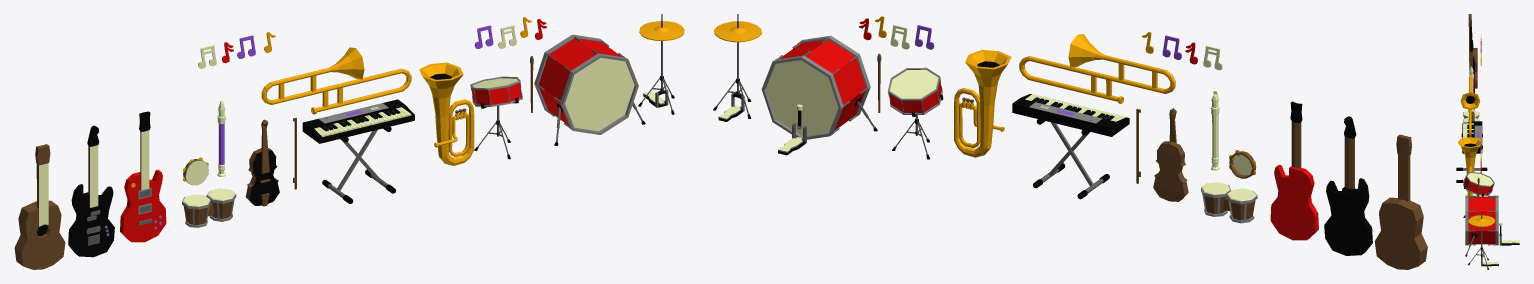
Rendered from MusicalInstruments.fbx.
3 views of the same model, side by side, from view 1: azimuth 30°, elevation 25°; view 2: azimuth 150°, elevation 25°; view 3: azimuth 270°, elevation 25° (orthographic). The views are drawn at different scales.
Visible parts, largest first — view 1: BassDrum, GuitarAcoustic, BassElectric, GuitarElectric, Tuba, Trombone, Piano, Violine, BongoDrums, SnareDrum, PianoStand, Notes (+5 smaller); view 2: BassDrum, GuitarAcoustic, BassElectric, GuitarElectric, Tuba, Trombone, SnareDrum, Piano, Violine, BongoDrums, PianoStand, Notes (+4 smaller); view 3: BassDrum, SnareDrum, Tuba, Trombone, GuitarAcoustic, Hihat, Piano, HihatStand, BongoDrums, GuitarElectric, PianoStand, Flute (+8 smaller).
Boxes of the visible parts, x1=… form: BassDrum: x1=534, y1=34, x2=645, y2=145; GuitarAcoustic: x1=14, y1=144, x2=65, y2=269; BassElectric: x1=68, y1=125, x2=114, y2=257; GuitarElectric: x1=120, y1=111, x2=166, y2=242; Tuba: x1=419, y1=62, x2=474, y2=165; Trombone: x1=261, y1=47, x2=411, y2=114; Piano: x1=302, y1=99, x2=414, y2=143; Violine: x1=245, y1=119, x2=279, y2=206; BongoDrums: x1=182, y1=188, x2=236, y2=227; SnareDrum: x1=470, y1=76, x2=522, y2=108; PianoStand: x1=322, y1=126, x2=395, y2=203; Notes: x1=474, y1=17, x2=546, y2=48; BassDrum: x1=761, y1=35, x2=877, y2=139; GuitarAcoustic: x1=1374, y1=134, x2=1427, y2=269; BassElectric: x1=1324, y1=116, x2=1372, y2=255; GuitarElectric: x1=1270, y1=101, x2=1318, y2=240; Tuba: x1=954, y1=49, x2=1011, y2=157; Trombone: x1=1019, y1=34, x2=1175, y2=103; SnareDrum: x1=887, y1=67, x2=943, y2=116; Piano: x1=1012, y1=94, x2=1129, y2=136; Violine: x1=1153, y1=108, x2=1188, y2=201; BongoDrums: x1=1201, y1=182, x2=1257, y2=223; PianoStand: x1=1033, y1=119, x2=1109, y2=199; Notes: x1=859, y1=16, x2=934, y2=49; BassDrum: x1=1465, y1=195, x2=1498, y2=256; SnareDrum: x1=1463, y1=172, x2=1494, y2=196; Tuba: x1=1458, y1=137, x2=1482, y2=195; Trombone: x1=1460, y1=75, x2=1480, y2=136; GuitarAcoustic: x1=1468, y1=14, x2=1477, y2=88; Hihat: x1=1468, y1=215, x2=1494, y2=226; Piano: x1=1462, y1=121, x2=1482, y2=153; HihatStand: x1=1468, y1=211, x2=1488, y2=269; BongoDrums: x1=1463, y1=110, x2=1479, y2=122; GuitarElectric: x1=1470, y1=39, x2=1474, y2=110; PianoStand: x1=1456, y1=133, x2=1487, y2=182; Flute: x1=1469, y1=66, x2=1473, y2=110.
Bounding box in the file's own units: 640 × 159 × 89.74.
